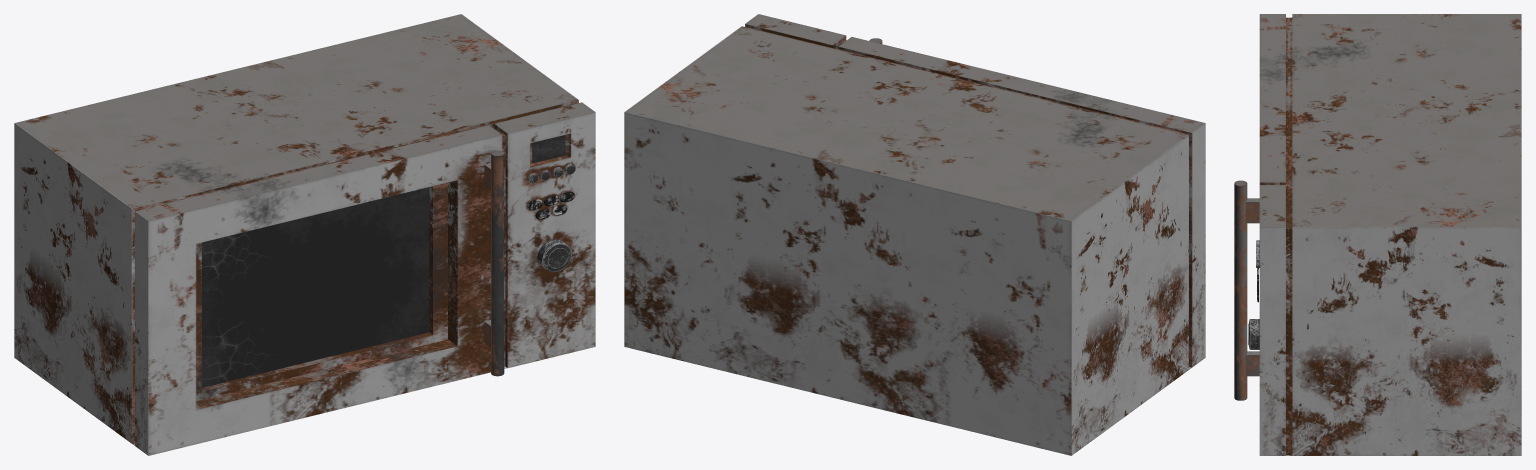
File: microwave.fbx
3 renders of one model, left to right at view 1: azimuth 30°, elevation 25°; view 2: azimuth 150°, elevation 25°; view 3: azimuth 270°, elevation 25°, orthographic. The views are drawn at different scales.
Parts seen in each view (by area): view 1: Cube.001, Cube.003, Cube.009, Cube.004; view 2: Cube.001; view 3: Cube.001, Cube.003, Cube.009.
Boxes of the visible parts, x1,y1,x2,y2 form: Cube.001: (14, 14, 595, 455); Cube.003: (484, 150, 504, 376); Cube.009: (537, 239, 572, 271); Cube.004: (527, 191, 574, 219); Cube.001: (624, 14, 1205, 455); Cube.001: (1259, 14, 1521, 455); Cube.003: (1234, 180, 1259, 400); Cube.009: (1248, 319, 1259, 349).
Bounding box in the file's own units: 361 × 181 × 205.
5 materials, 5 textured.
